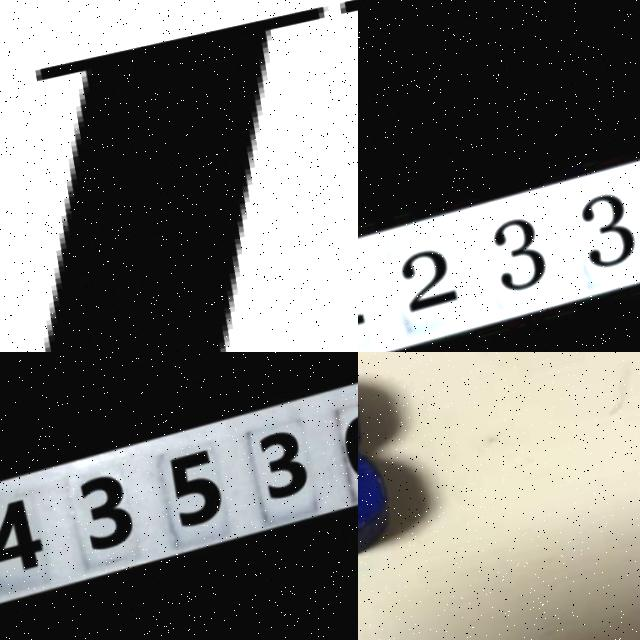0: (327, 396, 358, 499)
2: (382, 222, 464, 335), (358, 242, 371, 352)
3: (564, 176, 640, 284), (476, 202, 552, 306), (62, 460, 138, 564), (242, 417, 311, 513)
4: (0, 479, 50, 592)
5: (150, 435, 228, 543)
U: (0, 0, 358, 352)
